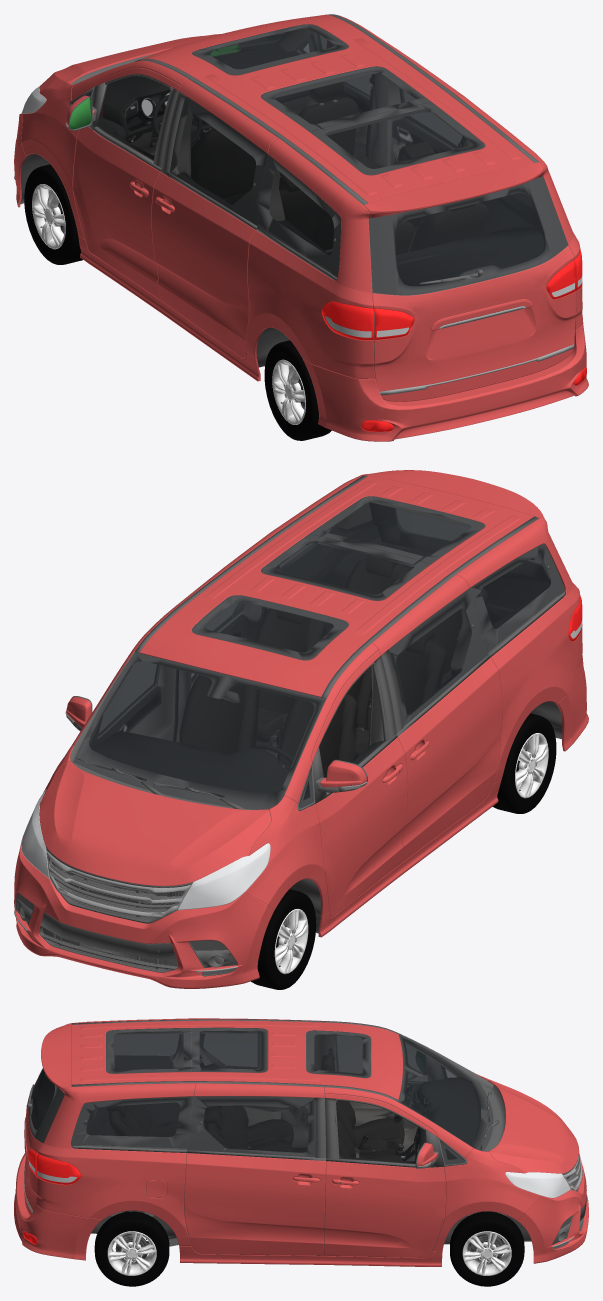
Rendered from traffic_minivan.glb.
3 views of the same model, one above another, from view 1: azimuth 30°, elevation 25°; view 2: azimuth 150°, elevation 25°; view 3: azimuth 270°, elevation 25° (orthographic). The views are drawn at different scales.
Parts seen in each view (by area): view 1: Body, Wheel_RL, Wheel_FL; view 2: Body, Wheel_FL, Wheel_RL; view 3: Body, Wheel_RR, Wheel_FR.
Part boxes in pixels (x1,y1,x2,y2): Body: [14, 14, 588, 441]; Wheel_RL: [264, 340, 331, 440]; Wheel_FL: [24, 164, 82, 264]; Body: [14, 470, 588, 988]; Wheel_FL: [251, 889, 316, 989]; Wheel_RL: [492, 713, 556, 813]; Body: [14, 1018, 588, 1266]; Wheel_RR: [94, 1211, 169, 1286]; Wheel_FR: [450, 1211, 524, 1286].
Bounding box in the file's own units: 2.16 × 1.82 × 4.86.
Materials: 17 (4 with a texture image).
